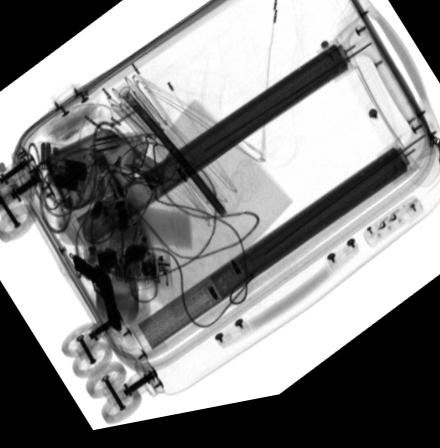Gun: (72, 254, 120, 336)
